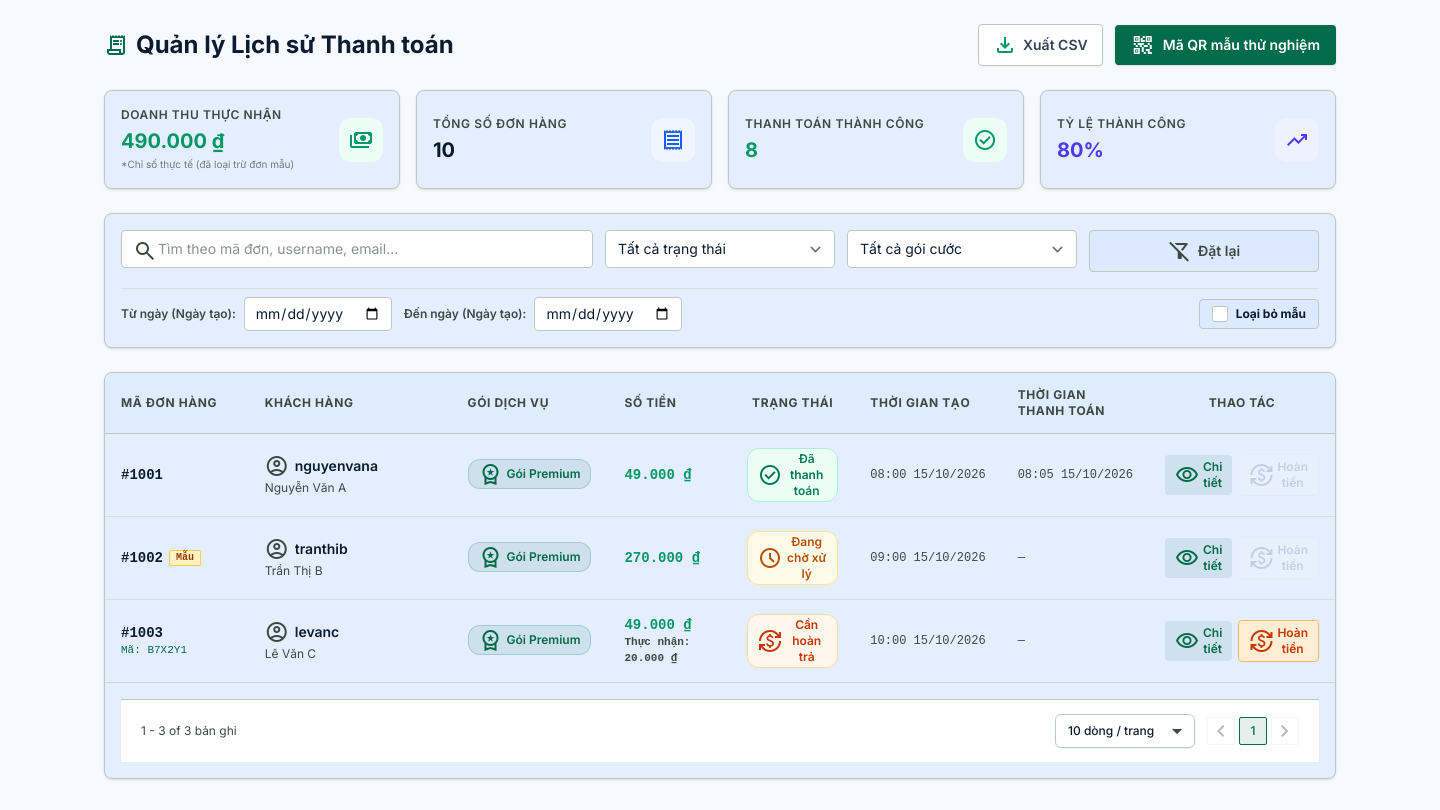
Test: Admin-web Payment Suite — PaymentHistoryPage (2-Tier Testing) › Tầng 1: Hiển thị & Thao tác tại giao diện (UI Rendering & Interaction) › 1.5. Click nút "Hoàn tiền" trên dòng đơn hàng REFUND_PENDING mở modal Hoàn tiền
The image size is (1440, 810).
Expected: the text "#1003" is shown, top-left (121, 623), bottom-right (163, 643)
What coordinates should you click on to do the following:
click the button titled "Hoàn tiền" in the row of "#1003"
I would click on:
 (1279, 641)
Its box is top-left (1238, 620), bottom-right (1319, 662).
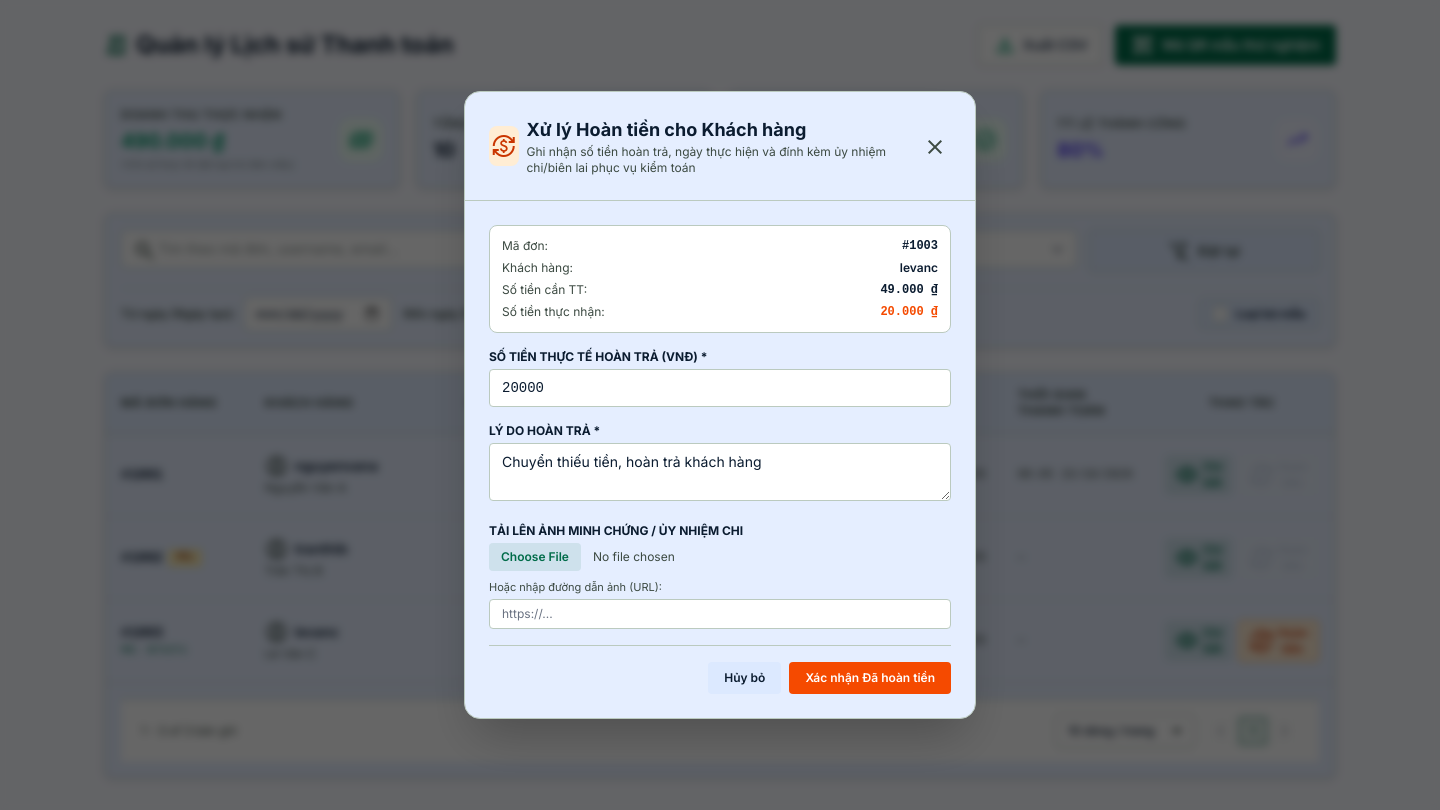
Now the heading "Xử lý Hoàn tiền cho Khách hàng" is shown, box top-left (526, 119), bottom-right (806, 140)
Now the text "Số tiền thực tế hoàn trả (VNĐ) *" is shown, box top-left (489, 349), bottom-right (707, 364)
Now the text "Lý do hoàn trả *" is shown, box top-left (489, 423), bottom-right (600, 438)
# Nút hủy đóng modal
What coordinates should you click on to do the following:
click the button "Hủy bỏ"
I would click on:
 (745, 678)
Its box is top-left (708, 662), bottom-right (781, 694).
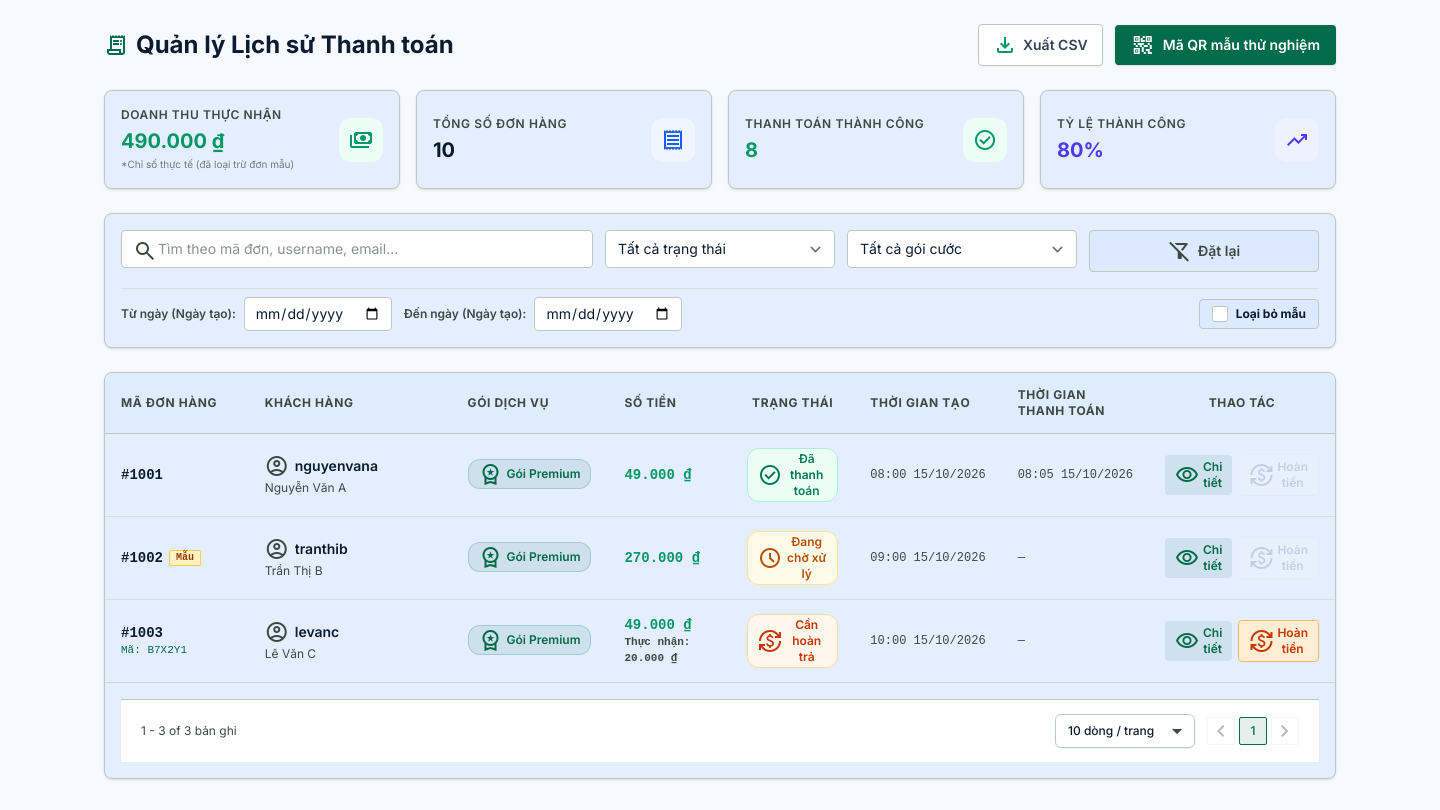
Now the heading "Xử lý Hoàn tiền cho Khách hàng" is gone
